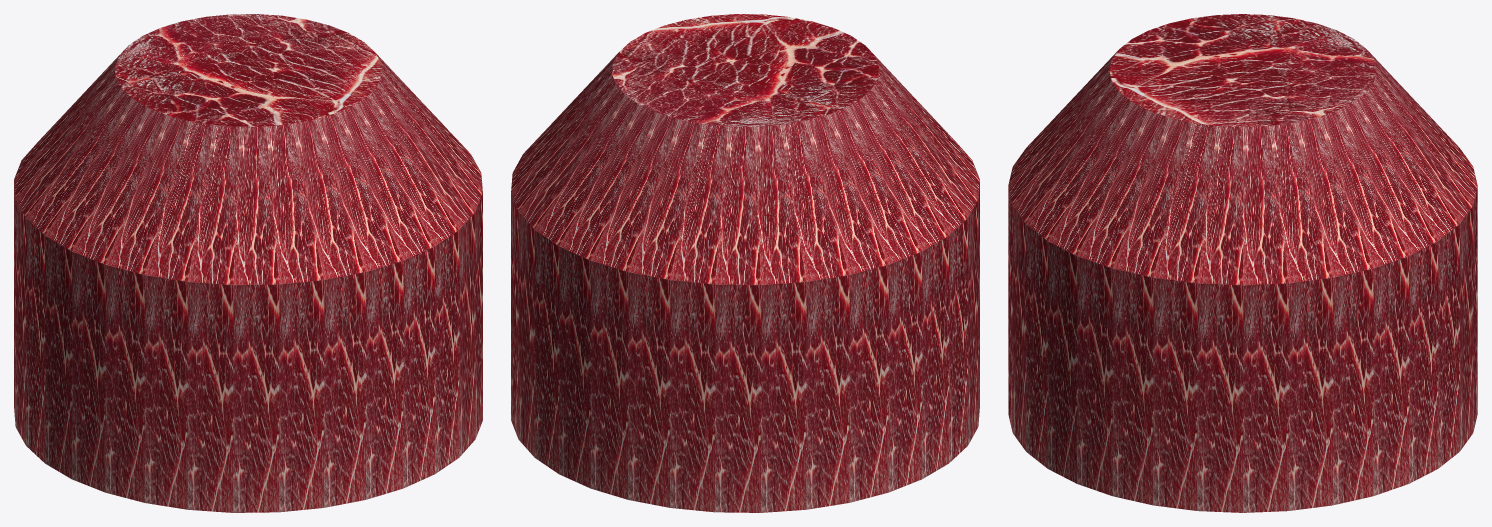
Rendered from bumper.obj.
3 views of the same model, side by side, from view 1: azimuth 30°, elevation 25°; view 2: azimuth 150°, elevation 25°; view 3: azimuth 270°, elevation 25° (orthographic).
Parts seen in each view (by area): view 1: Cylinder.001; view 2: Cylinder.001; view 3: Cylinder.001.
Boxes of the visible parts, x1,y1,x2,y2 form: Cylinder.001: [14, 14, 482, 512]; Cylinder.001: [511, 14, 979, 512]; Cylinder.001: [1008, 14, 1477, 512].
Size of the model in its own units: 0.7966 by 0.6426 by 0.7966.
